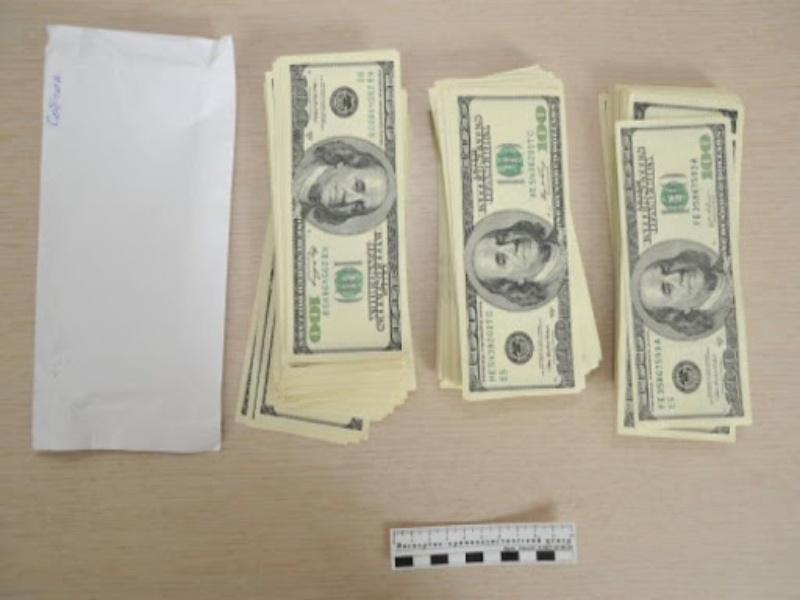cash: (237, 49, 417, 441), (427, 63, 603, 398), (600, 82, 750, 439)
